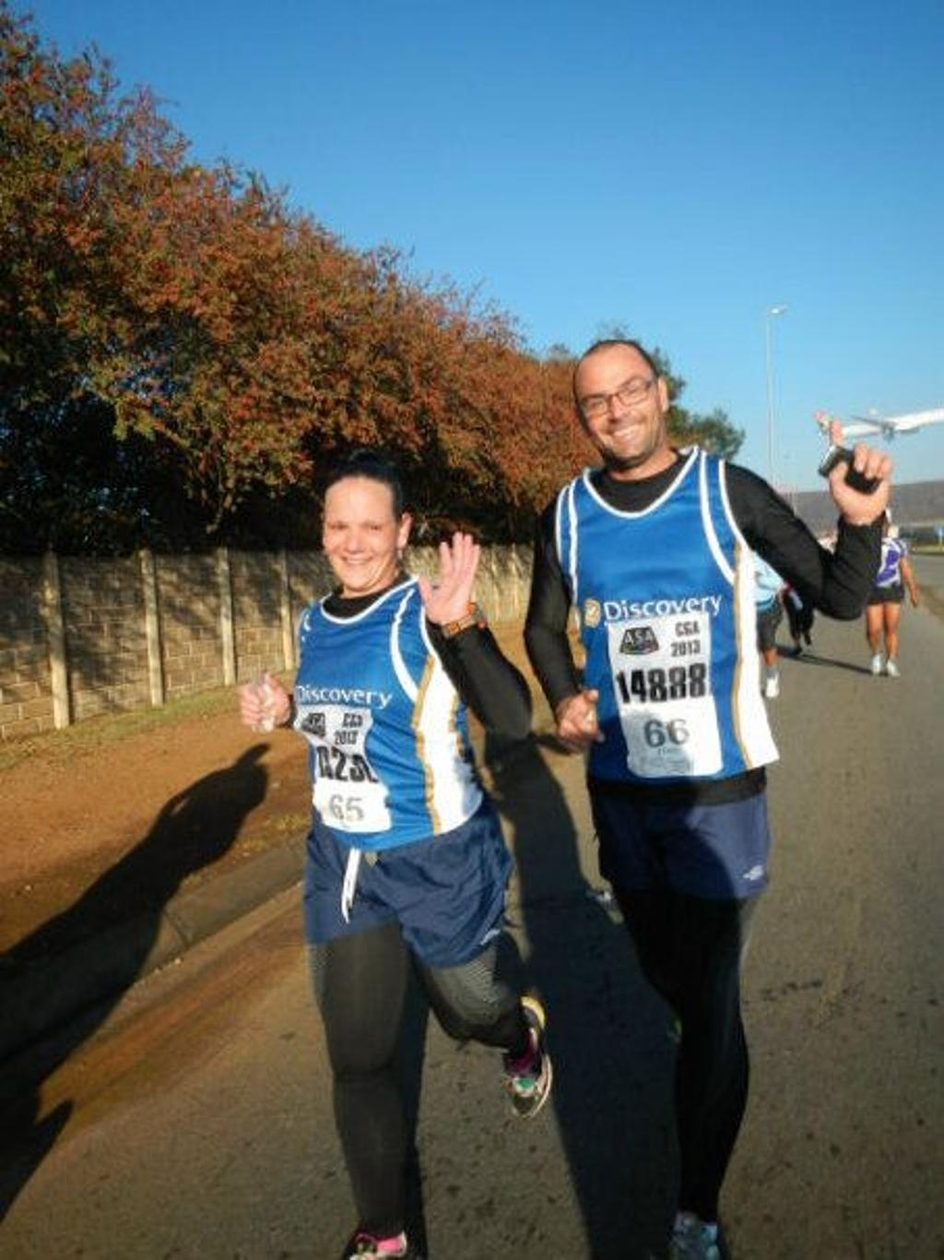human_face: (575, 344, 661, 459), (319, 480, 390, 590)
